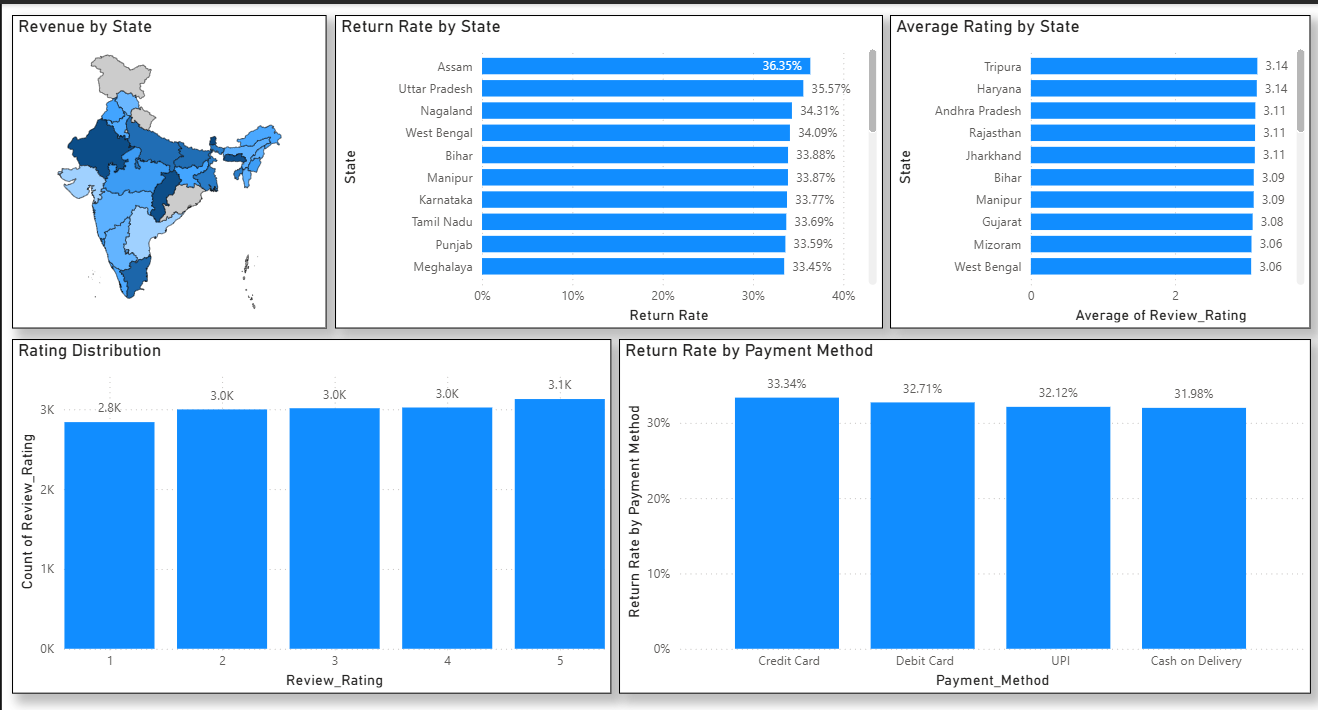

The dashboard page shown, as its layout file describes it:
{"tool":"powerbi","page":{"name":"Customer & Delivery Insights","canvas":[1280,720],"ordinal":2},"visuals":[{"type":"shapeMap","title":"Revenue by State","fields":{"Category":["amazon_sales_2025_cleaned.State"],"Value":["Sum(amazon_sales_2025_cleaned.Total_Sales_INR)"]},"box":[9.7,10.7,306.4,305.4],"z":0},{"type":"clusteredBarChart","title":"Return Rate by State","fields":{"Category":["amazon_sales_2025_cleaned.State"],"Y":["amazon_sales_2025_cleaned.Return Rate"]},"box":[323.9,10.7,533,305.4],"z":1},{"type":"clusteredBarChart","title":"Average Rating by State","fields":{"Category":["amazon_sales_2025_cleaned.State"],"Y":["Avg(amazon_sales_2025_cleaned.Review_Rating)"]},"box":[863.7,10.7,409.5,305.4],"z":2},{"type":"clusteredColumnChart","title":"Rating Distribution","fields":{"Category":["amazon_sales_2025_cleaned.Review_Rating"],"Y":["CountNonNull(amazon_sales_2025_cleaned.Review_Rating)"]},"box":[9.7,325.8,582.6,345.3],"z":3},{"type":"clusteredColumnChart","title":"Return Rate by Payment Method","fields":{"Category":["amazon_sales_2025_cleaned.Payment_Method"],"Y":["amazon_sales_2025_cleaned.Return Rate by Payment Method"]},"box":[600.1,325.8,673.1,345.3],"z":4}]}

Visuals, with their boxes on the page's 1280x720 design canvas (x1, y1, x2, y2). These are canvas units, not pixel positions in the 1318x710 screenshot, which may show the page scaled, cropped or inside an application window:
"Revenue by State" shapeMap: detection(10, 11, 316, 316)
"Return Rate by State" clusteredBarChart: detection(324, 11, 857, 316)
"Average Rating by State" clusteredBarChart: detection(864, 11, 1273, 316)
"Rating Distribution" clusteredColumnChart: detection(10, 326, 592, 671)
"Return Rate by Payment Method" clusteredColumnChart: detection(600, 326, 1273, 671)
